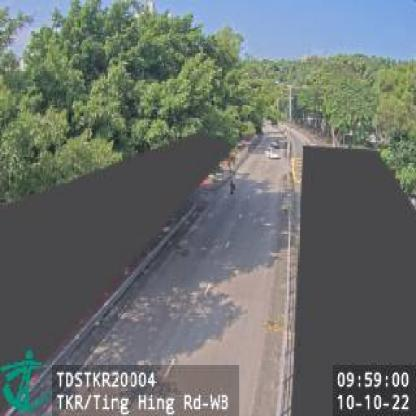Car: (269, 143, 279, 156)
